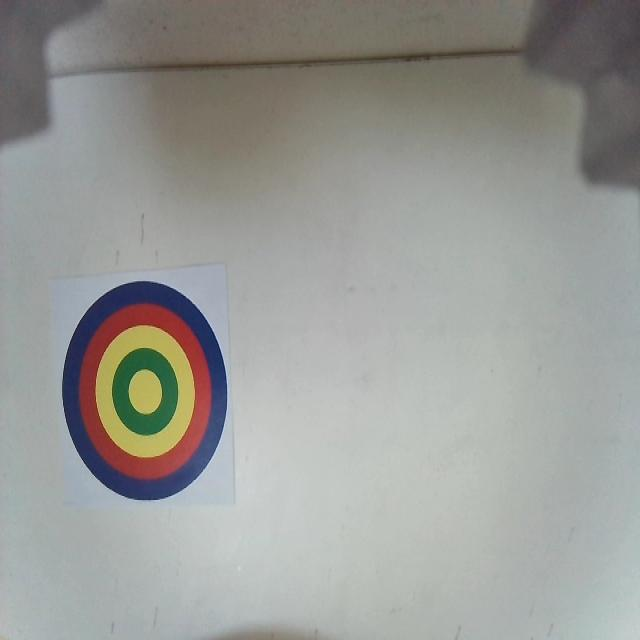cogn: (62, 280, 227, 499)
